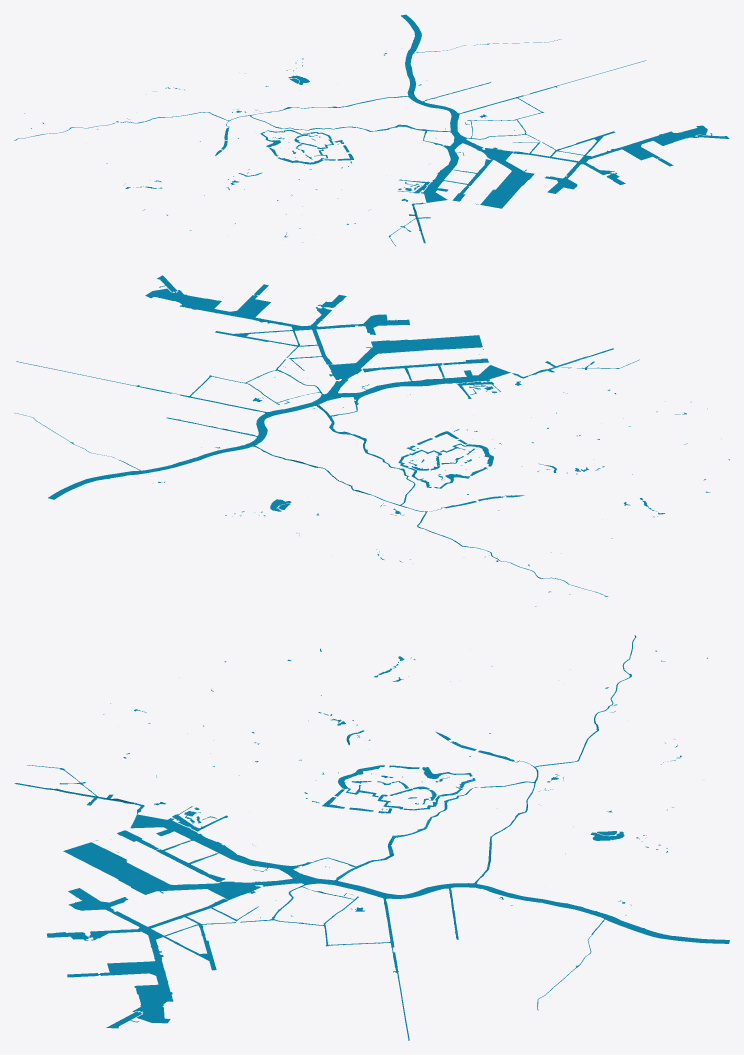
File: water.glb
3 renders of one model, top to bottom at view 1: azimuth 30°, elevation 25°; view 2: azimuth 150°, elevation 25°; view 3: azimuth 270°, elevation 25°, orthographic. The views are drawn at different scales.
Parts seen in each view (by area): view 1: water; view 2: water; view 3: water.
Part boxes in pixels (bbox=[...]): water: bbox=[14, 14, 729, 246]; water: bbox=[14, 275, 729, 606]; water: bbox=[14, 635, 729, 1040].
Bounding box in the file's own units: 13572 × 48.05 × 10126.
